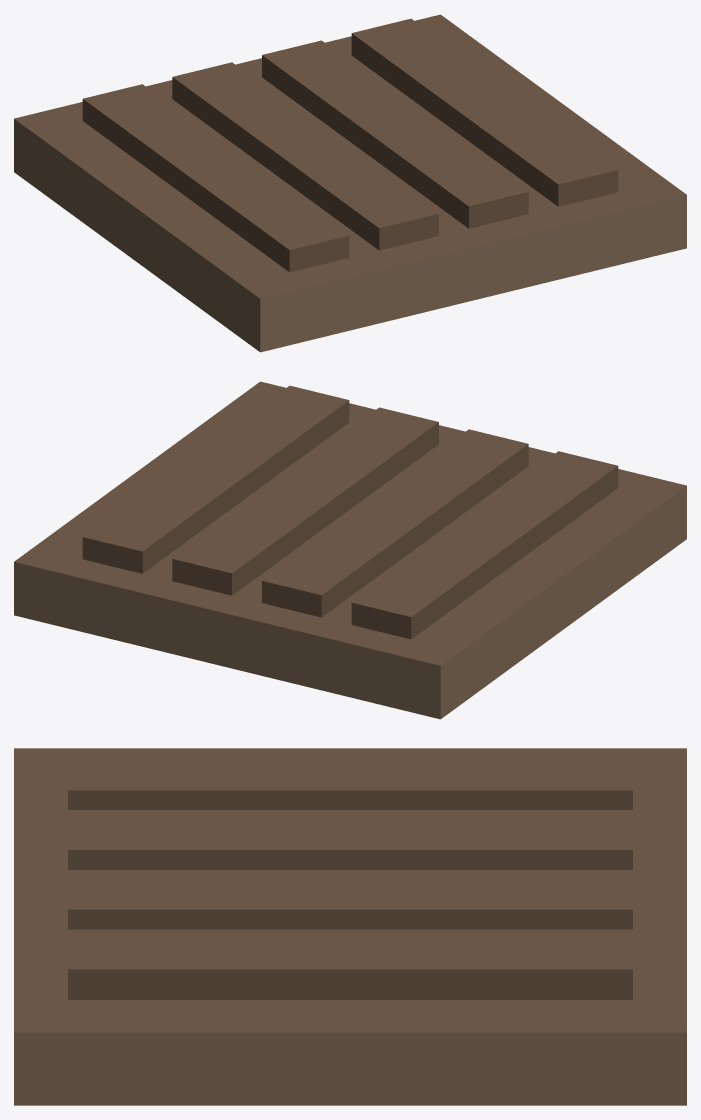
Rendered from Tile_WateredTilled.fbx.
3 views of the same model, one above another, from view 1: azimuth 30°, elevation 25°; view 2: azimuth 150°, elevation 25°; view 3: azimuth 270°, elevation 25° (orthographic). The views are drawn at different scales.
Parts seen in each view (by area): view 1: Tile_Watered; view 2: Tile_Watered; view 3: Tile_Watered.
Boxes of the visible parts, x1,y1,x2,y2 form: Tile_Watered: (14,14,686,352); Tile_Watered: (14,381,686,719); Tile_Watered: (14,748,686,1105).
Bounding box in the file's own units: 100 × 17 × 100.
